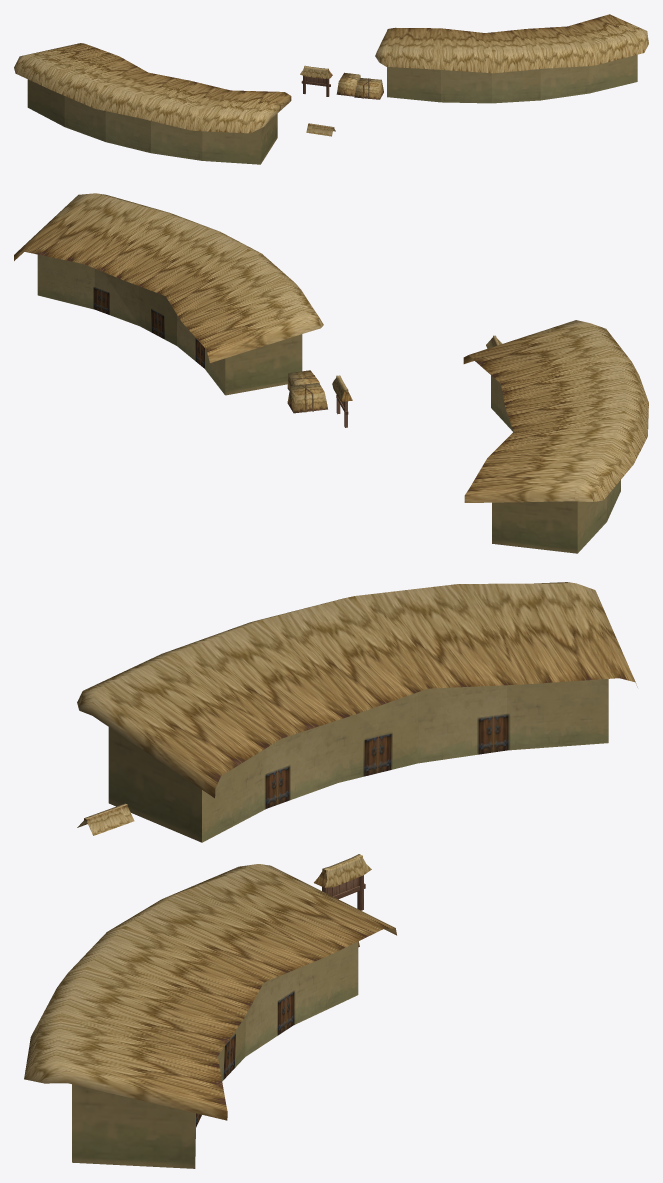
The model's file is Area_09_49.fbx.
The picture shows the model from 3 angles, top to bottom: view 1: azimuth 30°, elevation 25°; view 2: azimuth 150°, elevation 25°; view 3: azimuth 270°, elevation 25°; orthographic projection. The views are drawn at different scales.
Visible parts, largest first — view 1: Area_09_49; view 2: Area_09_49; view 3: Area_09_49.
Boxes of the visible parts, x1=… form: Area_09_49: x1=14, y1=14, x2=648, y2=164; Area_09_49: x1=14, y1=193, x2=648, y2=553; Area_09_49: x1=24, y1=582, x2=637, y2=1168.
Bounding box in the file's own units: 5644 × 615 × 2918.
